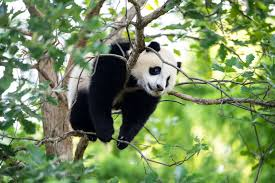panda: (45, 31, 190, 149)
